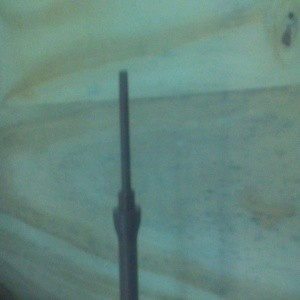obeng: (111, 70, 143, 300)
